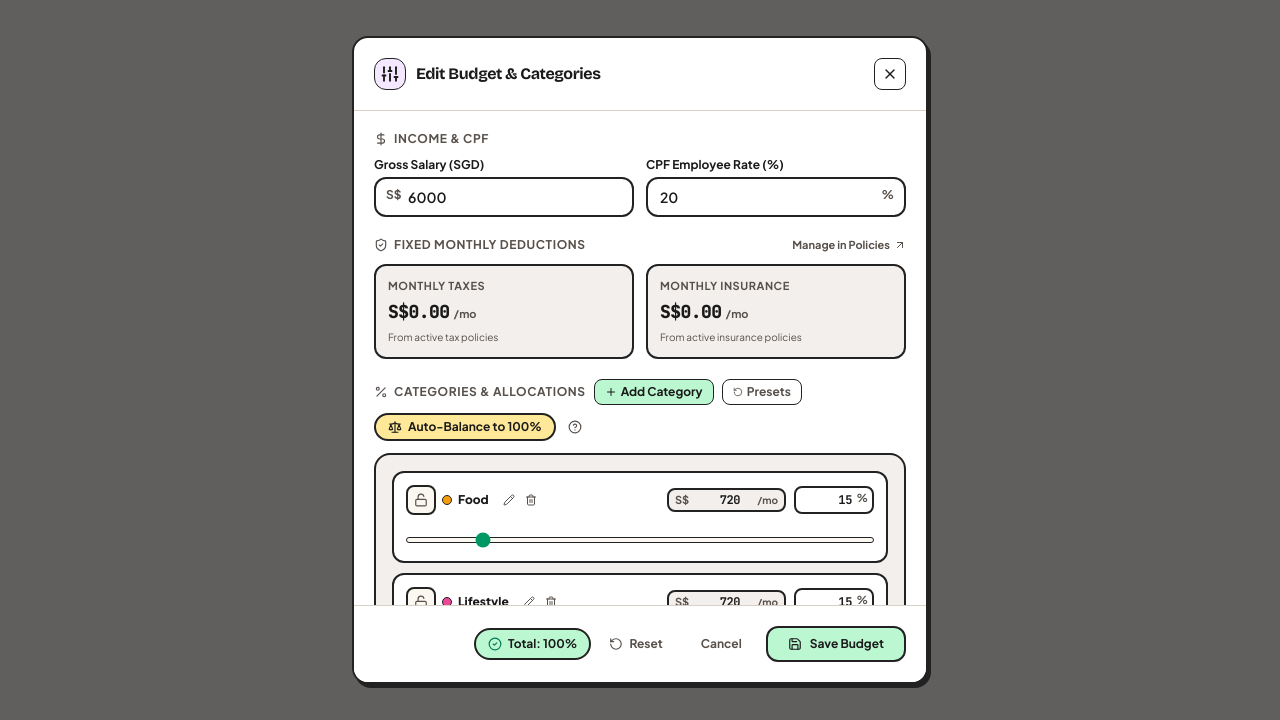
BaseProfileEditorModal › converts smart dollar input "$300" in percentage field to percentage and auto-locks category
# Enter "$300" in the percentage field
Replace the text in the field labelled "Food" with "$300" at (834, 500), box [794,486,874,514]
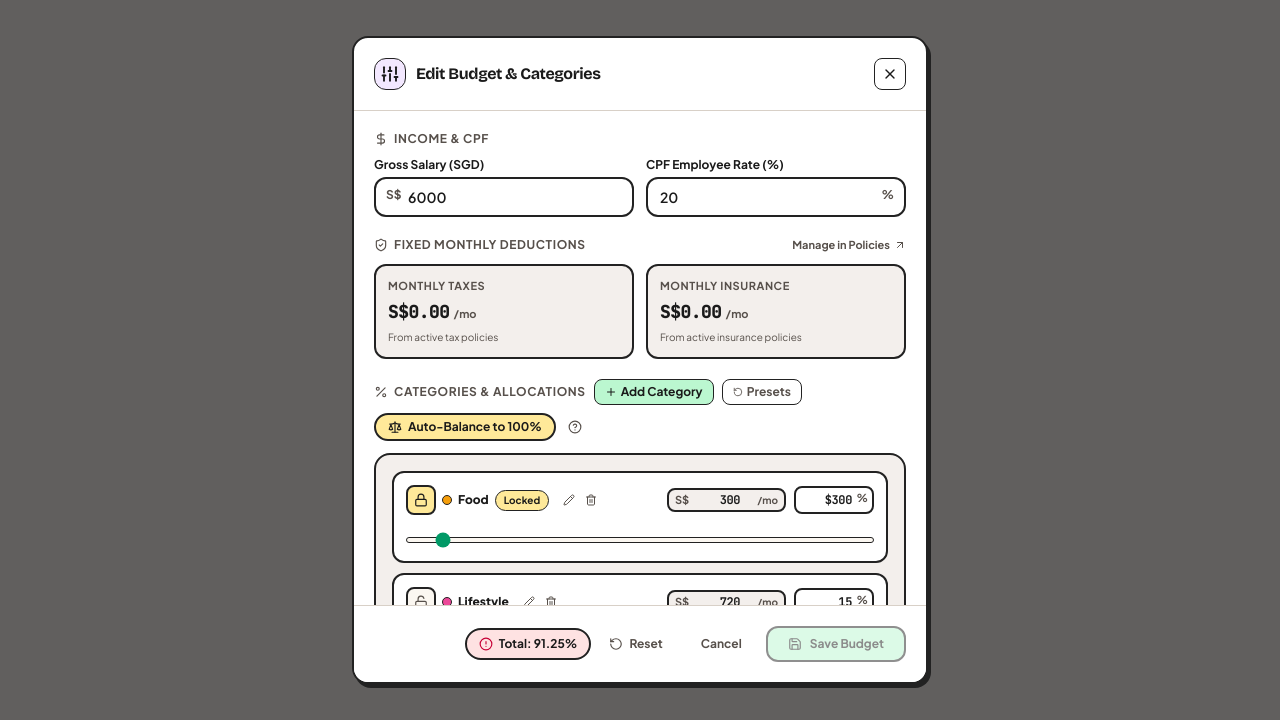
# On blur, formats to allocation percent
Leave the field labelled "Food", box [794,486,874,514]
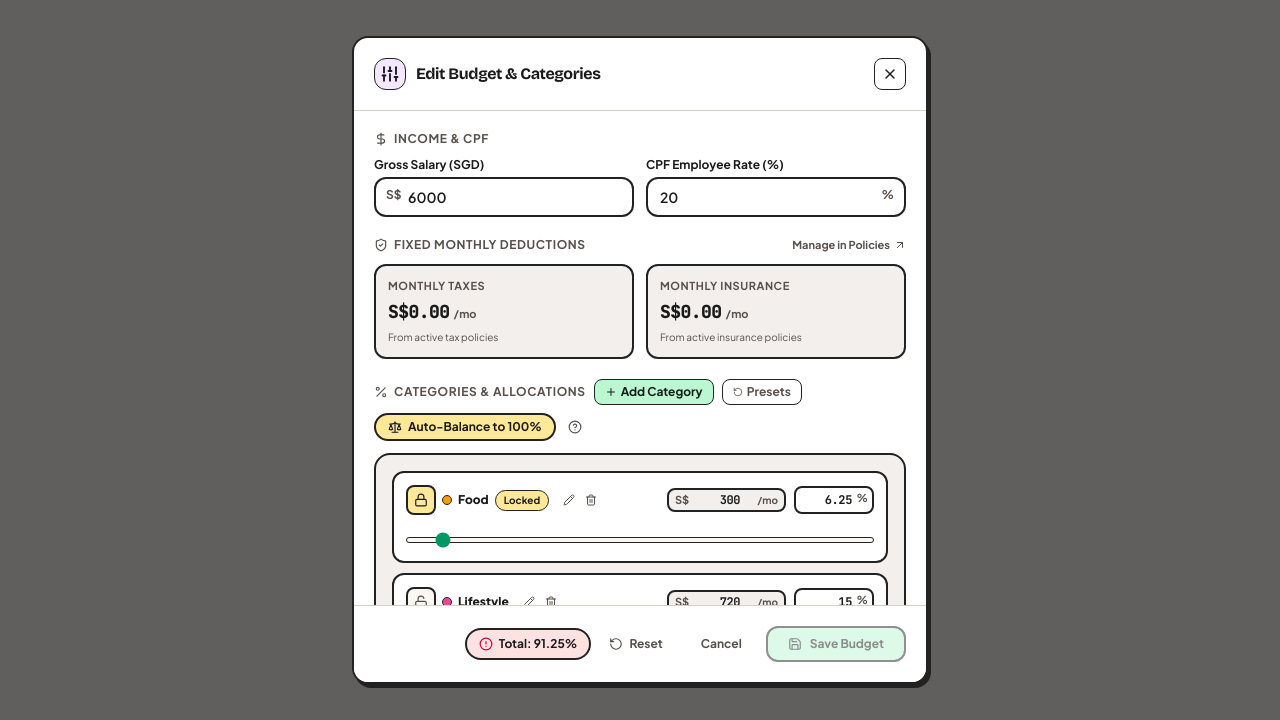
Now the field labelled "Food" holds "6.25", box [794,486,874,514]
